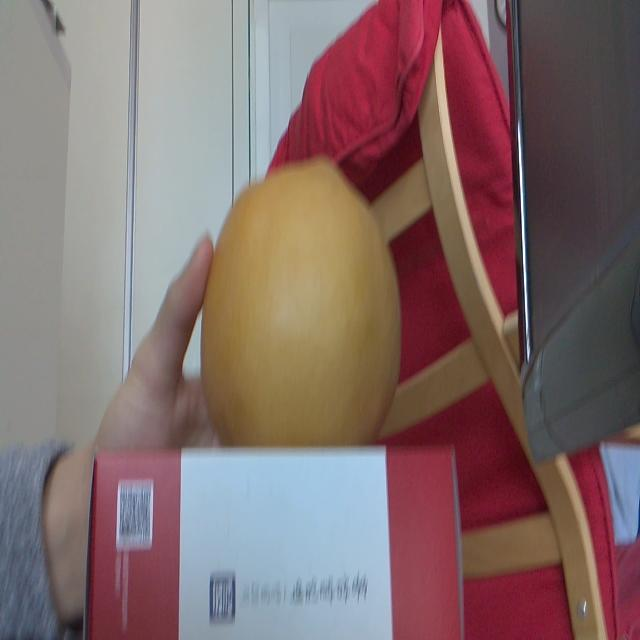pear: (199, 154, 402, 448)
